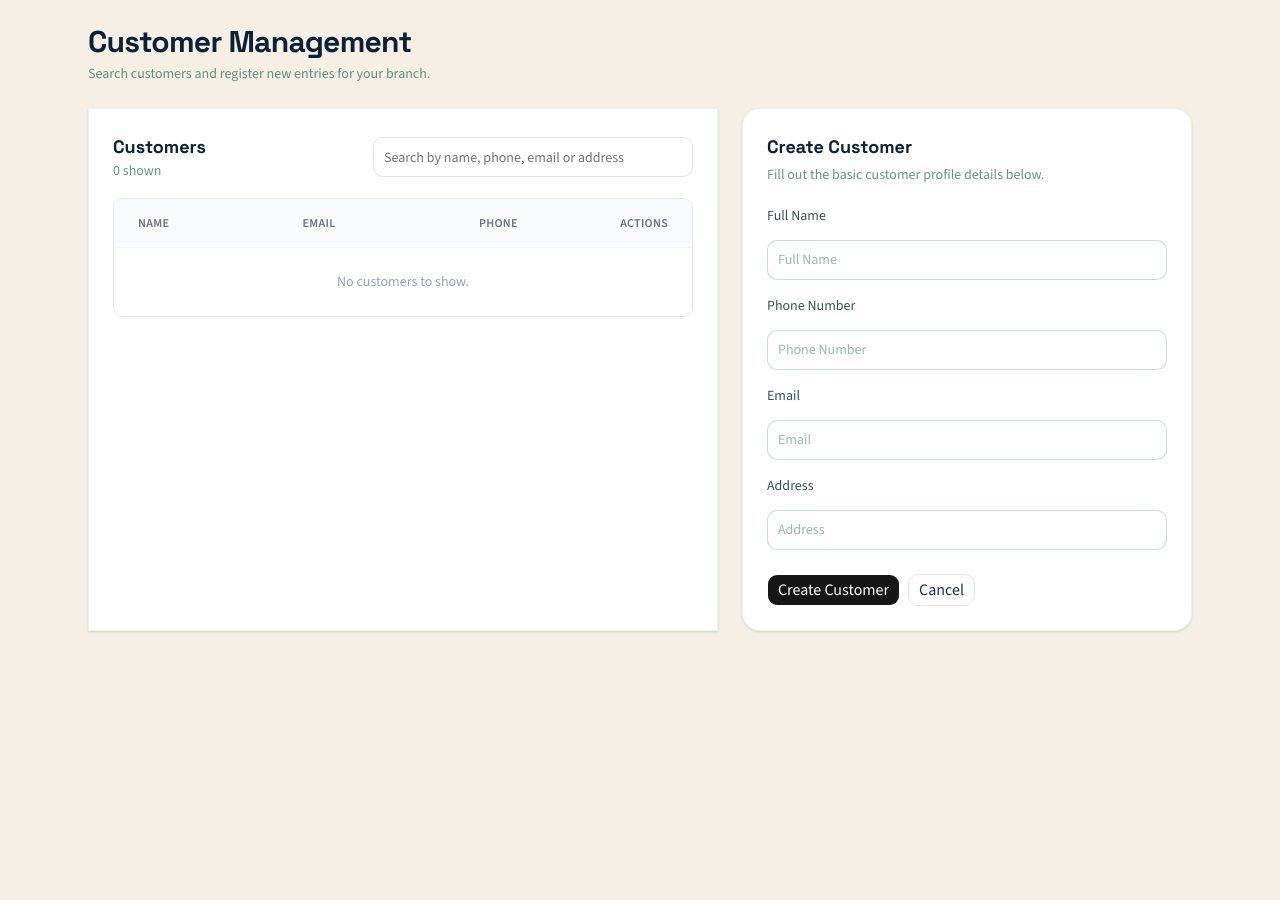
Test case: CreateCustomerForm › shows phone field error and root error on 409 conflict
Type "John Doe" into the field labelled "Full Name" at (967, 260), box x1=767 y1=240 x2=1167 y2=280
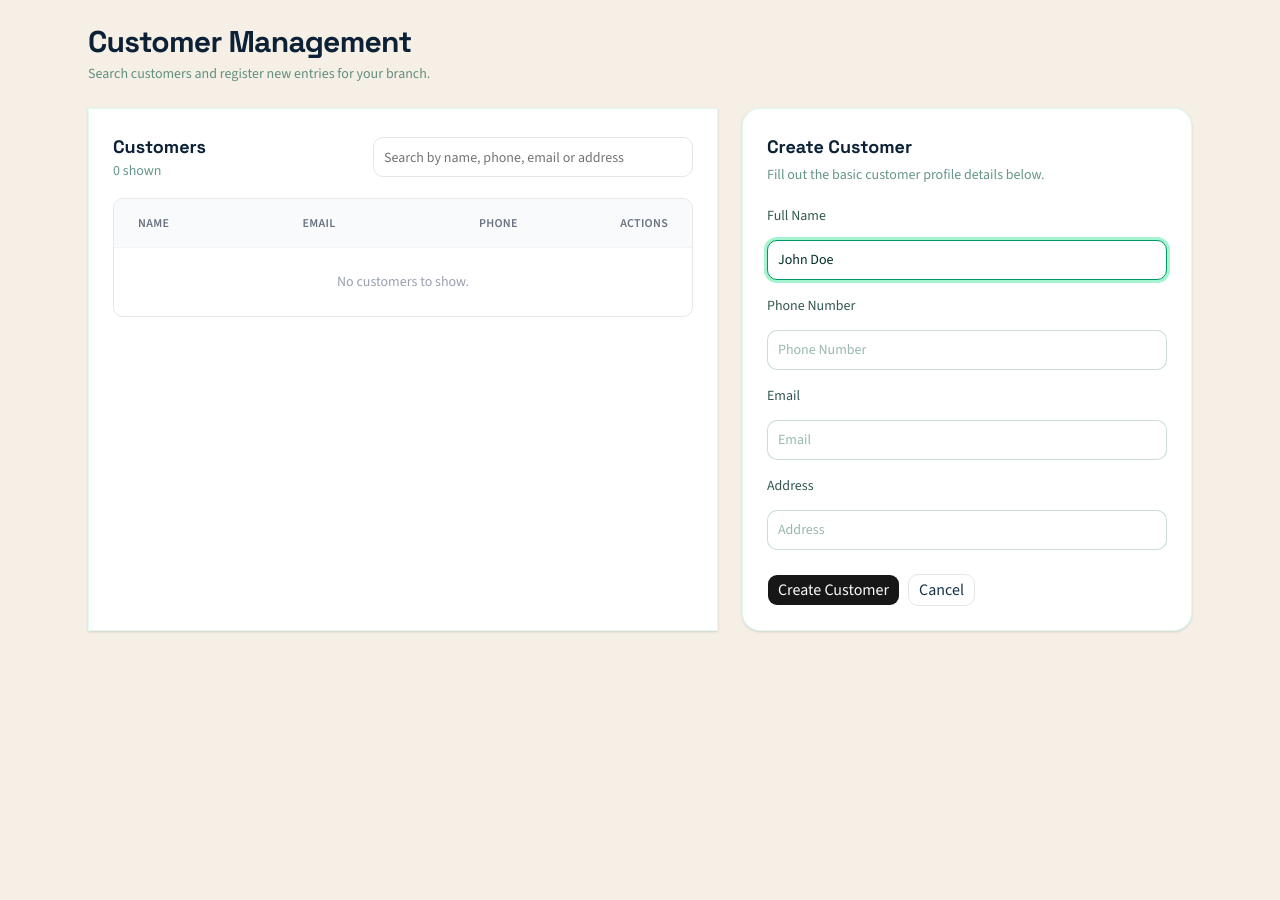
Type "1234567890" into the field labelled "Phone Number" at (967, 350), box x1=767 y1=330 x2=1167 y2=370
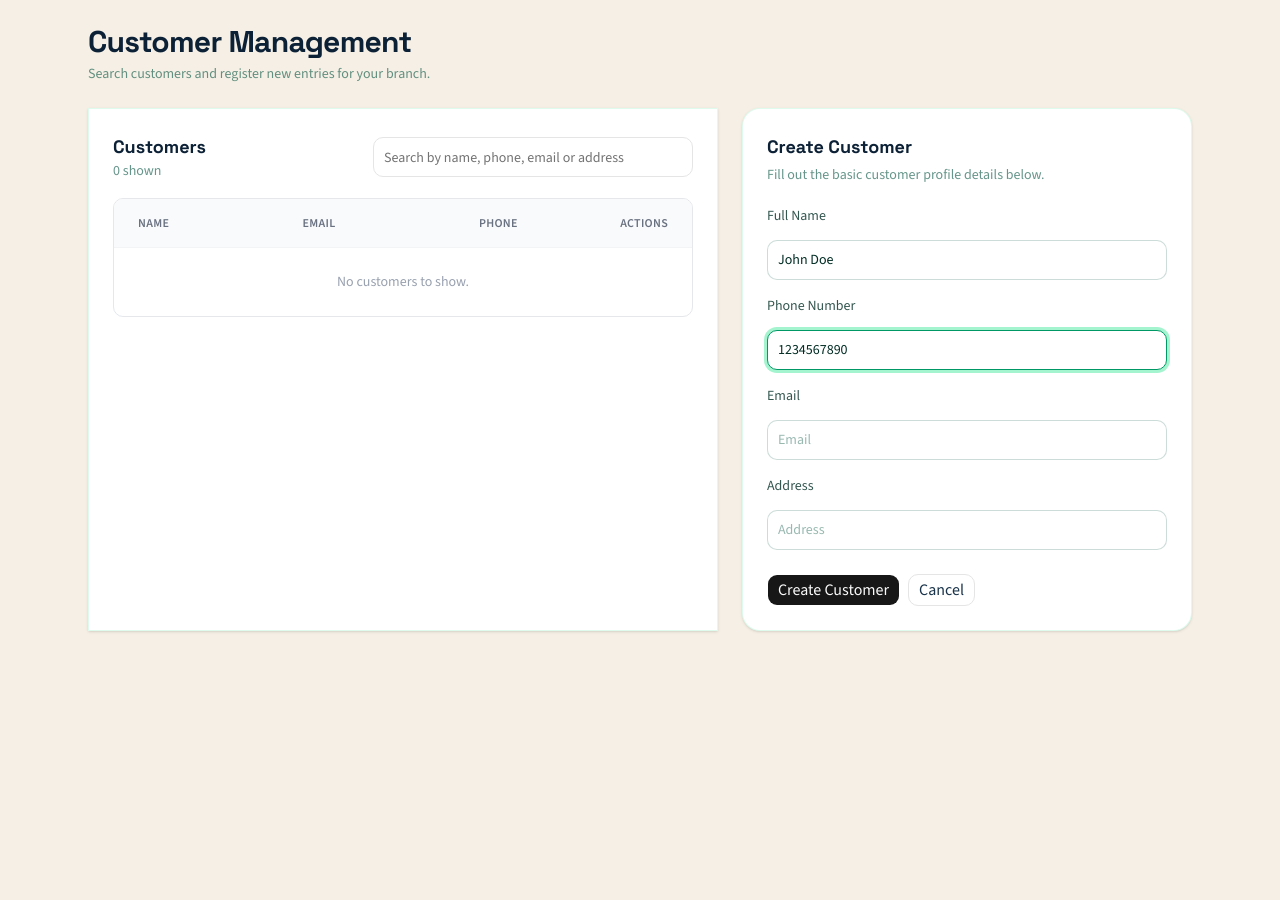
Type "john.doe@test.local" into the field labelled "Email" at (967, 440), box x1=767 y1=420 x2=1167 y2=460
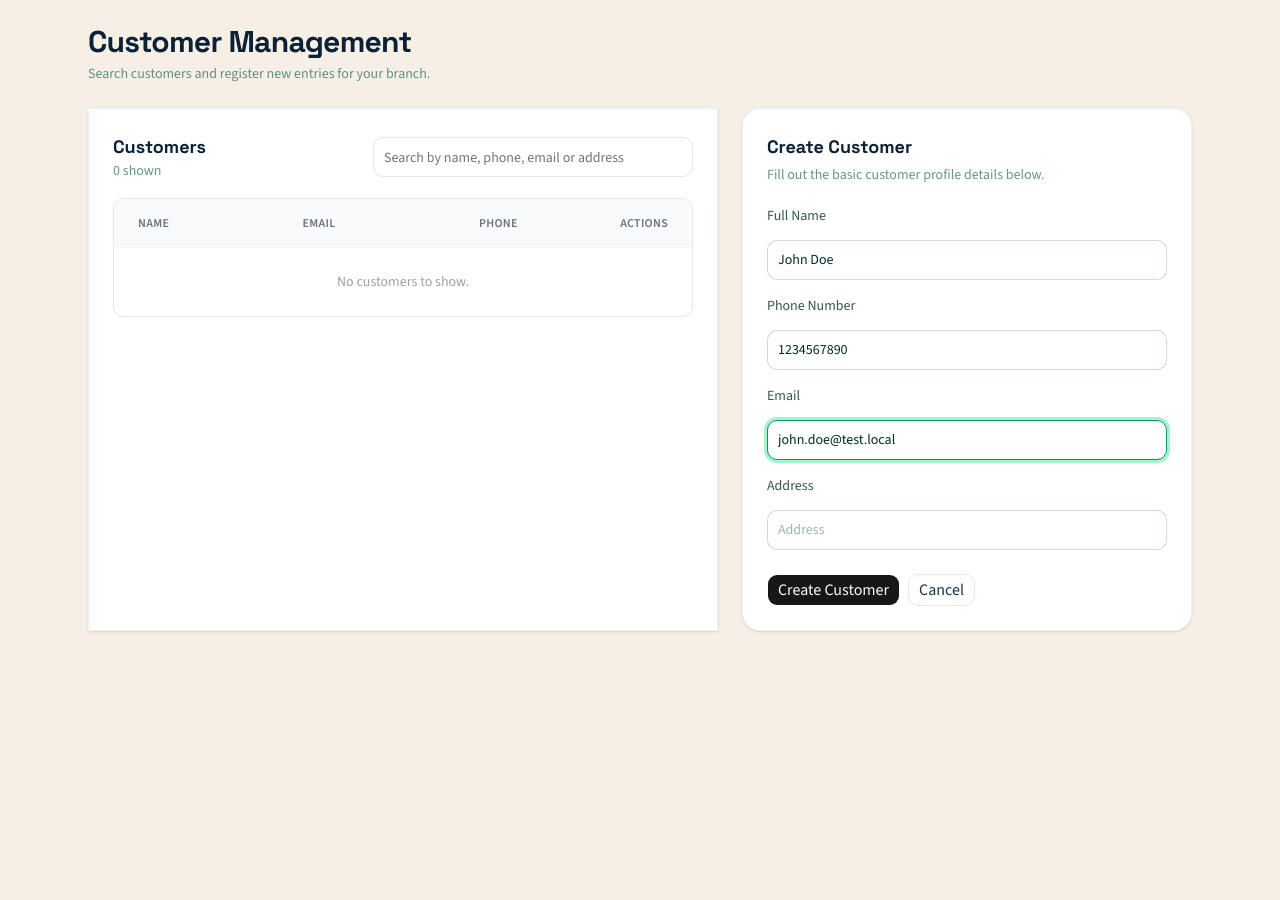
Type "123 Main St" into the field labelled "Address" at (967, 530), box x1=767 y1=510 x2=1167 y2=550
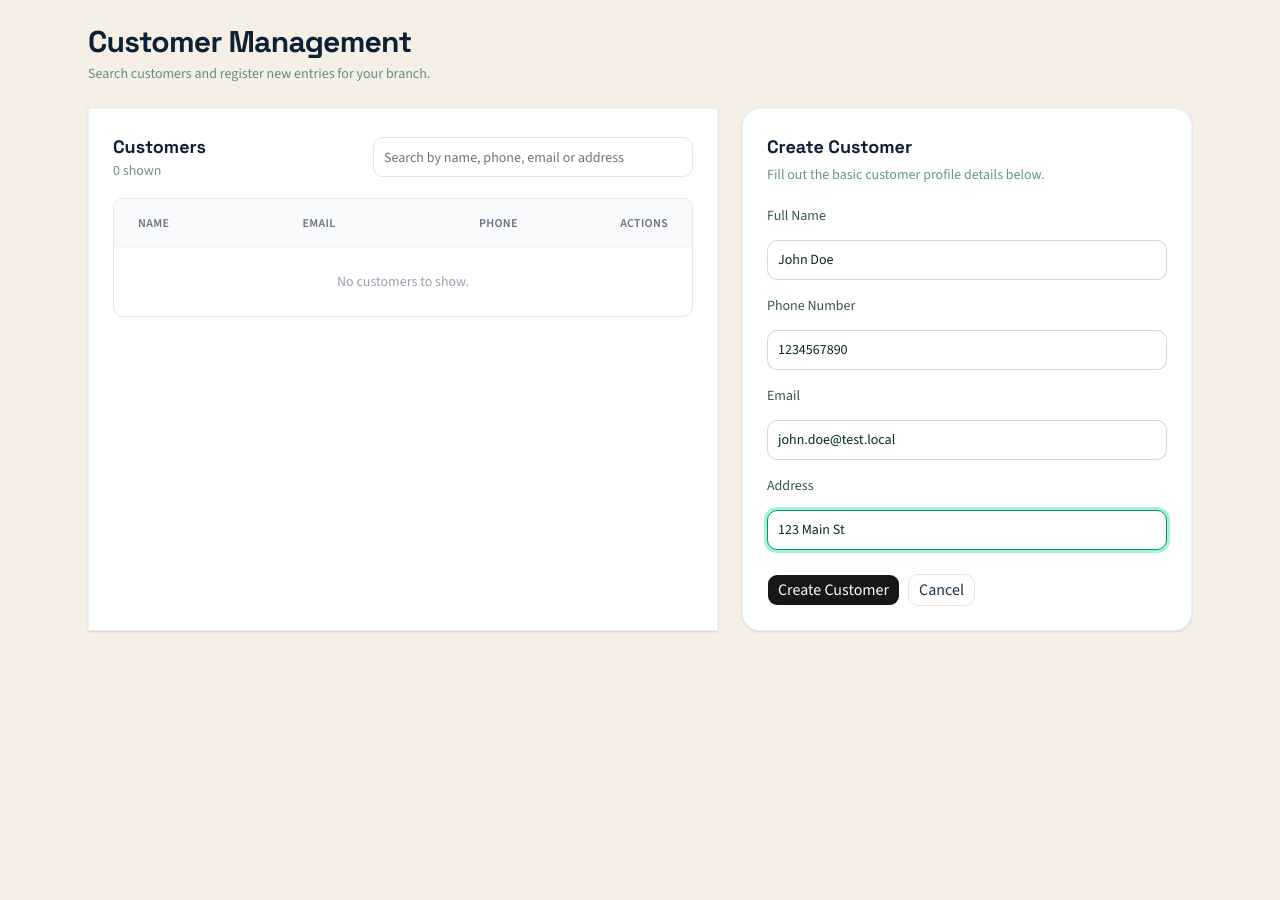
Click the button "Create Customer" at (834, 590), box x1=767 y1=574 x2=900 y2=606
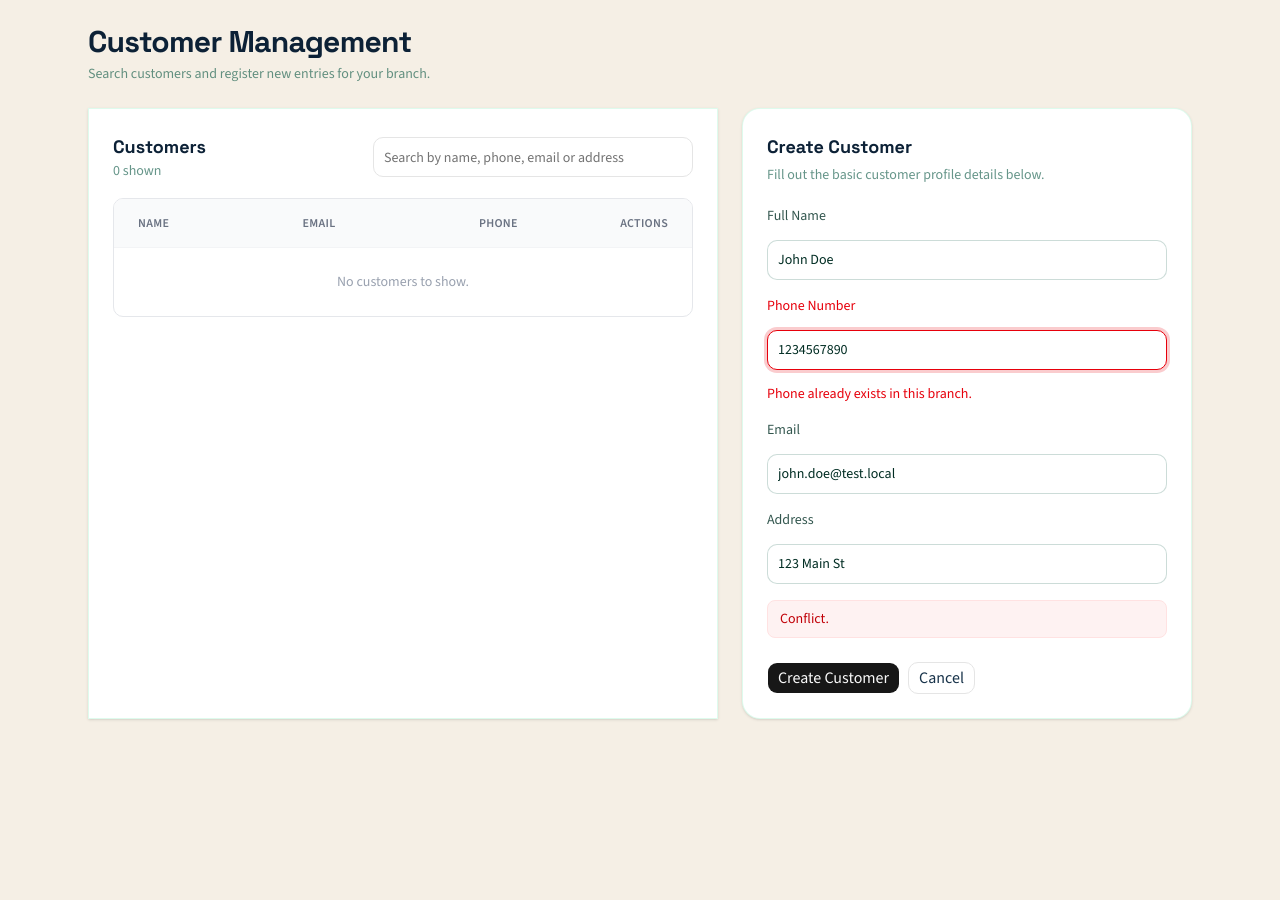
expect the text "Phone already exists in this branch." is shown: met, box x1=767 y1=384 x2=972 y2=403
expect the text "Conflict." is shown: met, box x1=767 y1=600 x2=1167 y2=638
